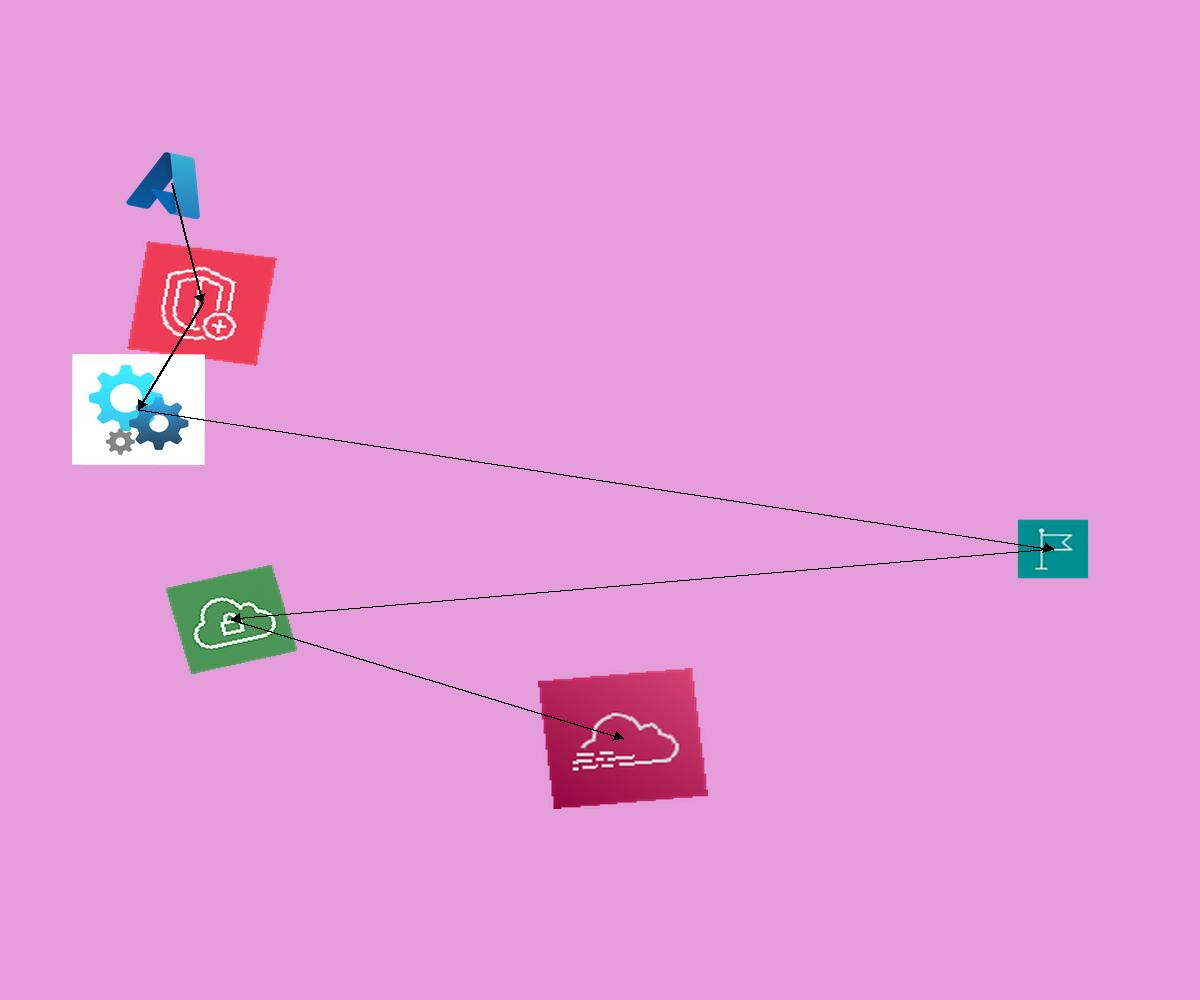AWS-CloudTrail: (538, 668, 708, 809)
AWS-Private_vpc: (165, 564, 298, 675)
AWS-Region: (1017, 519, 1089, 579)
AWS-Shield: (127, 241, 277, 366)
Azure_api: (72, 354, 205, 465)
Azure_services: (121, 142, 221, 225)
